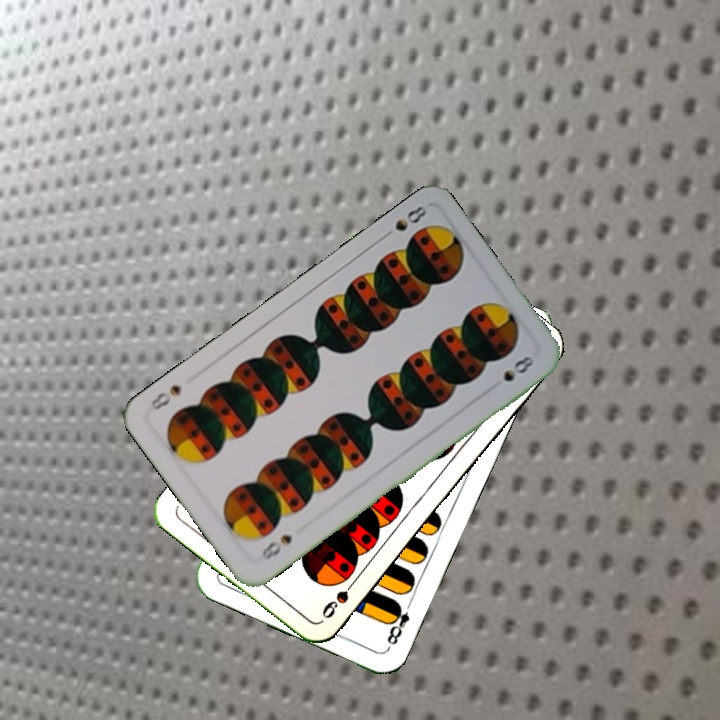E8: (382, 596, 415, 652)
S8: (377, 201, 430, 242), (257, 530, 295, 563)
S9: (318, 573, 361, 622)
